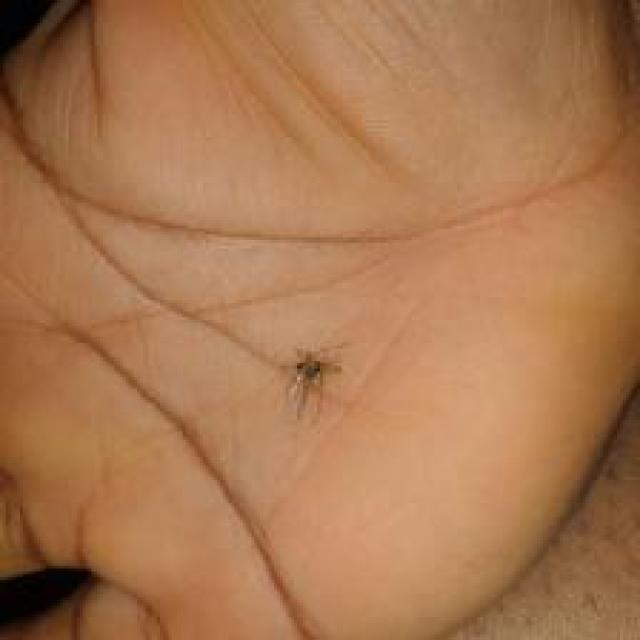Culex: (283, 343, 343, 420)
